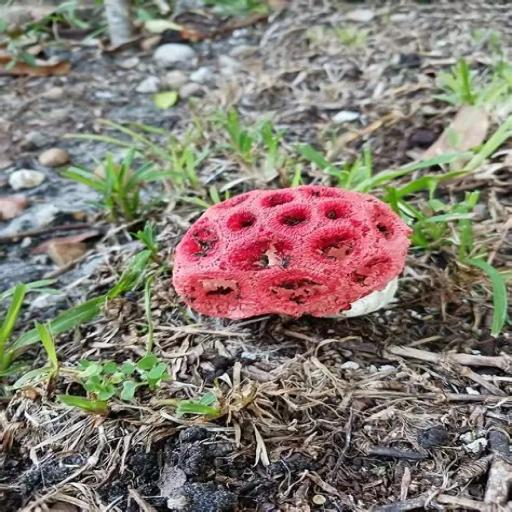Red Cage Fungus: (171, 188, 408, 320)
